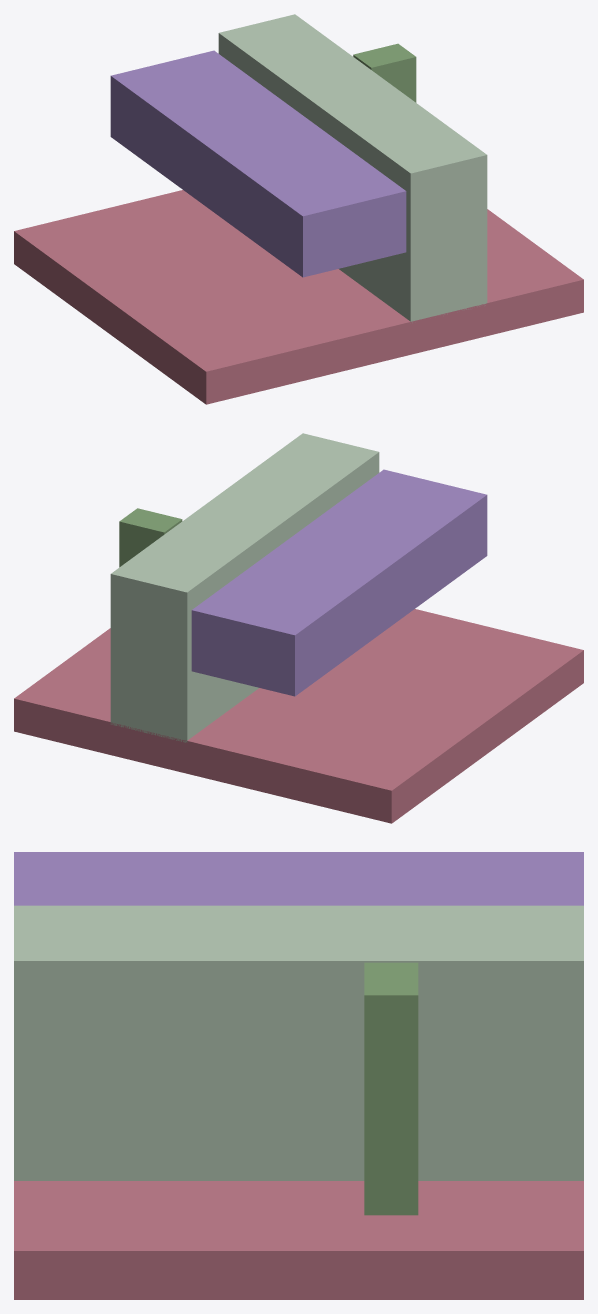
The model's file is 239508_pred.glb.
3 renders of one model, top to bottom at view 1: azimuth 30°, elevation 25°; view 2: azimuth 150°, elevation 25°; view 3: azimuth 270°, elevation 25°, orthographic. The views are drawn at different scales.
Visible parts, largest first — view 1: world; view 2: world; view 3: world.
Boxes of the visible parts, left/top/right/bottom form: world: left=14, top=14, right=583, bottom=404; world: left=14, top=433, right=583, bottom=823; world: left=14, top=852, right=583, bottom=1299.
Size of the model in its own units: 8.4 by 3.85 by 7.4.
